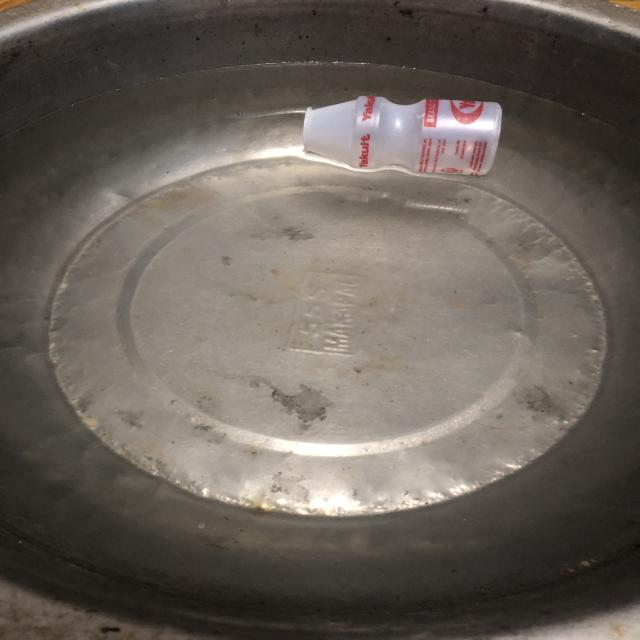Plastic Bottle: (303, 89, 512, 189)
